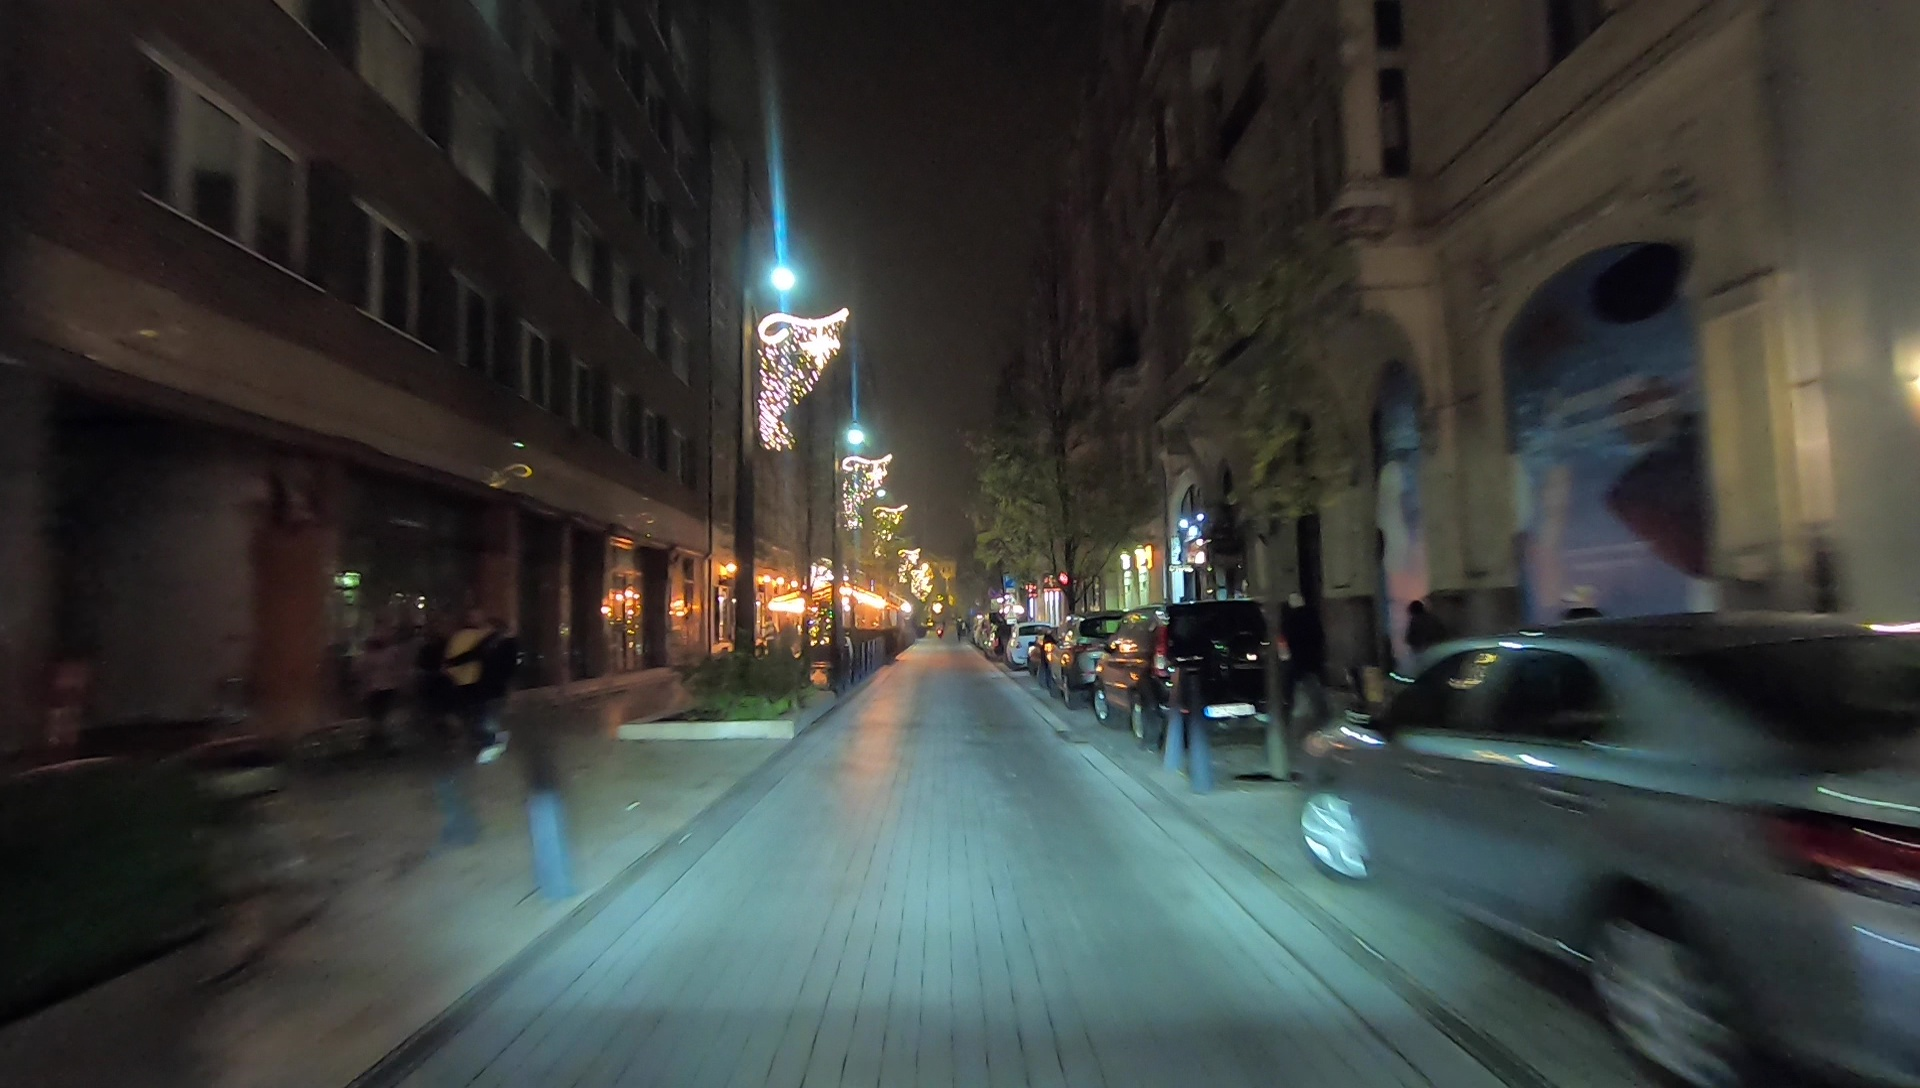person: (362, 610, 423, 760), (441, 617, 489, 760), (476, 628, 523, 747), (1401, 599, 1445, 708)
